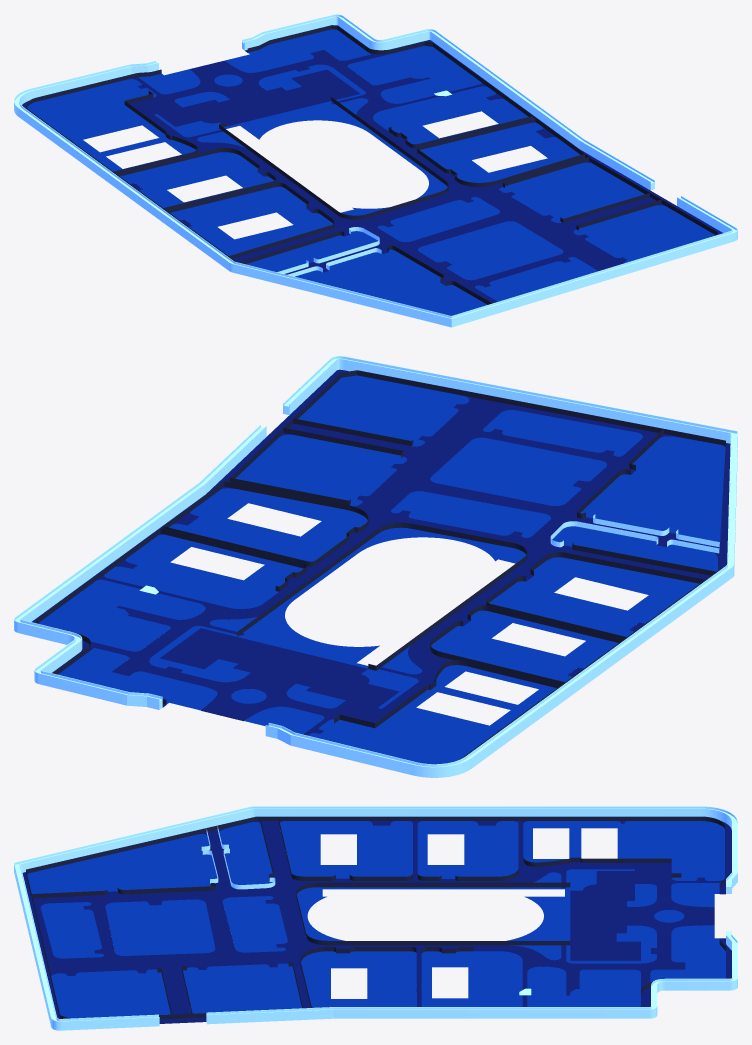
File: floor.glb
3 views of the same model, one above another, from view 1: azimuth 30°, elevation 25°; view 2: azimuth 150°, elevation 25°; view 3: azimuth 270°, elevation 25° (orthographic). The views are drawn at different scales.
Parts seen in each view (by area): view 1: 图形002; view 2: 图形002; view 3: 图形002.
Part boxes in pixels (left/top/right/bottom): 图形002: left=14, top=14, right=737, bottom=327; 图形002: left=14, top=356, right=737, bottom=777; 图形002: left=14, top=806, right=737, bottom=1030.
Bounding box in the file's own units: 252 × 5.16 × 358.
